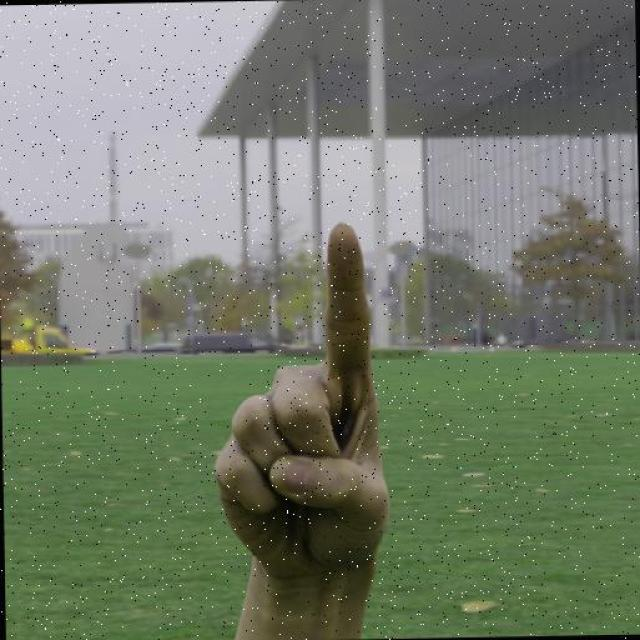Z: (207, 219, 396, 590)
